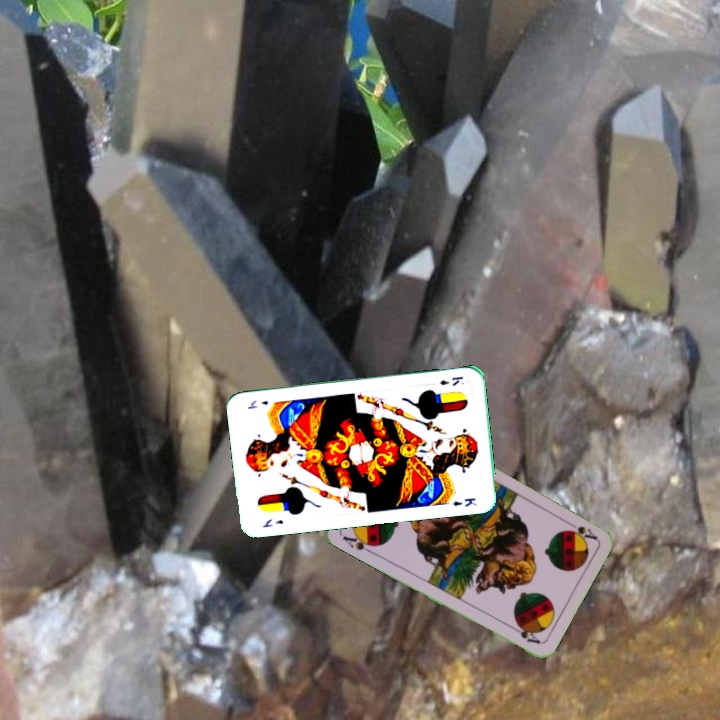EK: (435, 372, 466, 388), (258, 515, 286, 530)
SA: (338, 529, 379, 556), (562, 517, 600, 543)
